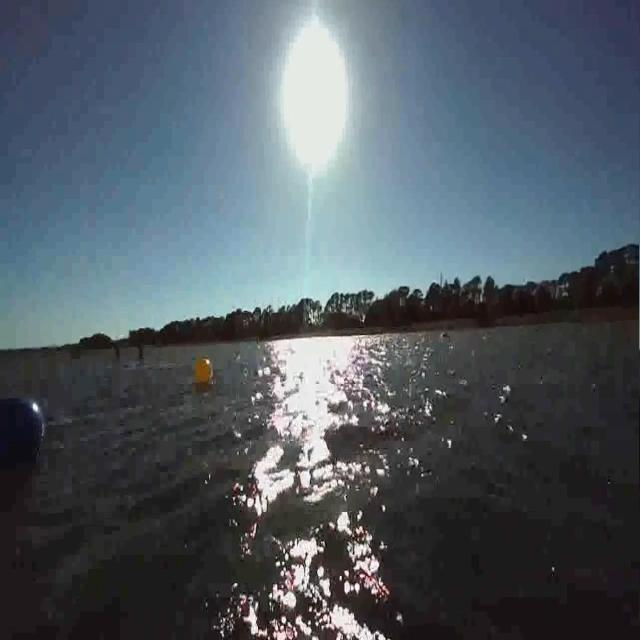blue-buoy: (0, 396, 45, 468)
yellow-buoy: (196, 353, 214, 385)
